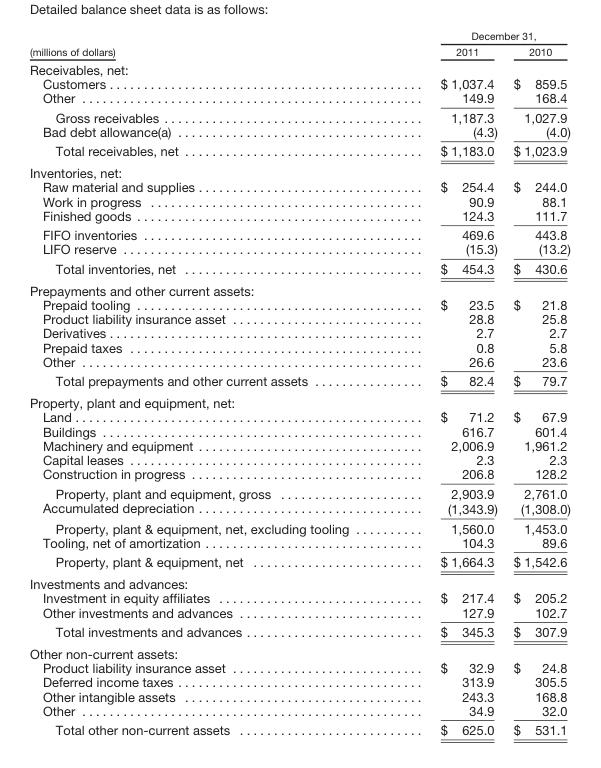table: (28, 29, 569, 737)
table column: (28, 29, 394, 737), (394, 29, 504, 737), (504, 29, 569, 737)
table column header: (28, 29, 569, 59)
table projected row header: (28, 161, 569, 179), (28, 279, 569, 297), (28, 391, 569, 409), (28, 572, 569, 590), (28, 642, 569, 660), (28, 59, 569, 76)
table row: (28, 258, 569, 279), (28, 551, 569, 572), (28, 621, 569, 642), (28, 141, 569, 161), (28, 371, 569, 391), (28, 161, 569, 179), (28, 279, 569, 297), (28, 391, 569, 409), (28, 500, 569, 518), (28, 572, 569, 590), (28, 642, 569, 660), (28, 719, 569, 737), (28, 59, 569, 76), (28, 90, 569, 107), (28, 107, 569, 124), (28, 124, 569, 141), (28, 208, 569, 225), (28, 241, 569, 258), (28, 354, 569, 371), (28, 466, 569, 483), (28, 483, 569, 500), (28, 518, 569, 535), (28, 604, 569, 621), (28, 43, 569, 59), (28, 225, 569, 241), (28, 535, 569, 551), (28, 703, 569, 719), (28, 179, 569, 194), (28, 325, 569, 340), (28, 409, 569, 424), (28, 688, 569, 703), (28, 29, 569, 43), (28, 76, 569, 90), (28, 194, 569, 208), (28, 297, 569, 311), (28, 311, 569, 325), (28, 340, 569, 354), (28, 424, 569, 438), (28, 438, 569, 452), (28, 452, 569, 466), (28, 590, 569, 604), (28, 660, 569, 674), (28, 674, 569, 688)
table spanning cell: (28, 29, 394, 59), (394, 29, 569, 43)
